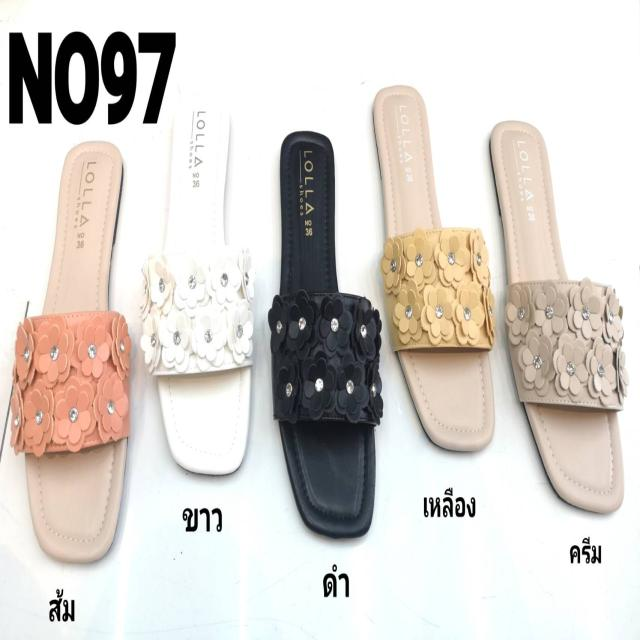black: (274, 127, 376, 543)
orange: (31, 148, 129, 563)
white: (158, 103, 254, 476)
yellow: (487, 118, 623, 510), (373, 87, 493, 454)
